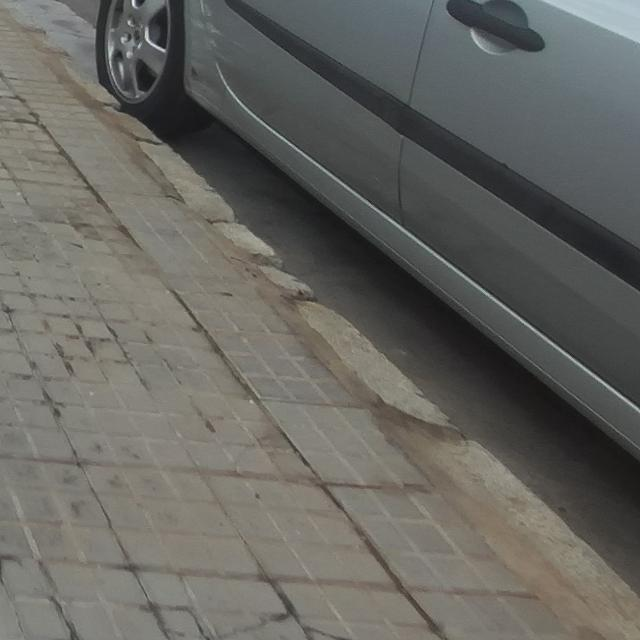calcada_quebrada: (213, 611, 291, 640), (304, 624, 346, 640)
